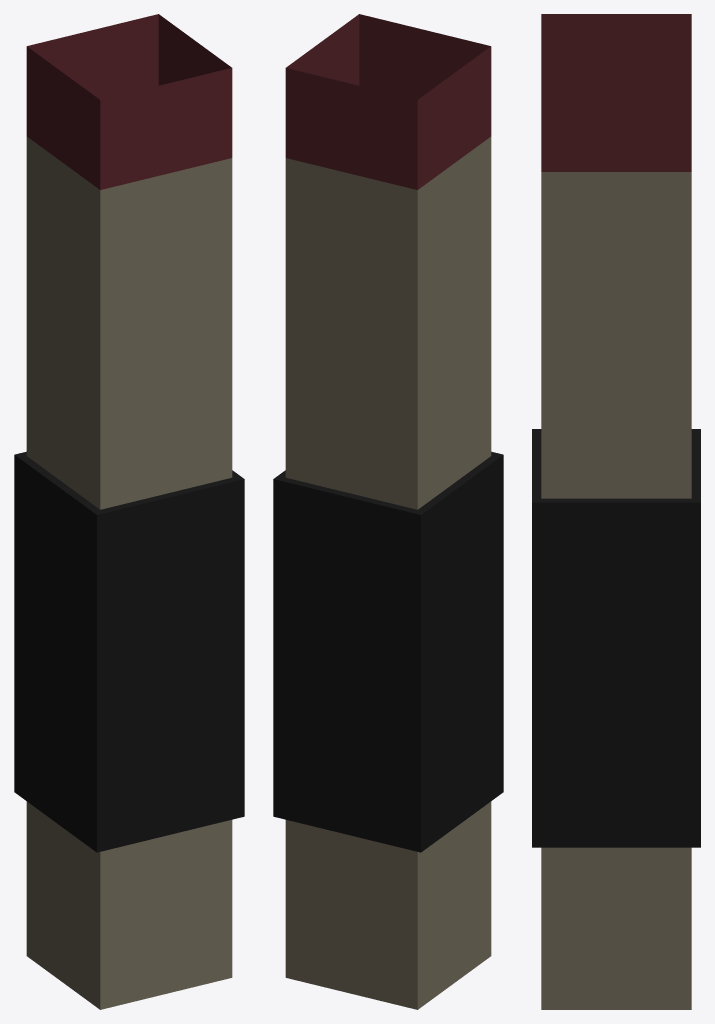
Rendered from SM_pillar_07.fbx.
The picture shows the model from 3 angles, left to right: view 1: azimuth 30°, elevation 25°; view 2: azimuth 150°, elevation 25°; view 3: azimuth 270°, elevation 25°; orthographic projection. The views are drawn at different scales.
Visible parts, largest first — view 1: pillar_07; view 2: pillar_07; view 3: pillar_07.
Part boxes in pixels (box(x1,y1,x2,y2)): pillar_07: box(14, 14, 244, 1009); pillar_07: box(273, 14, 503, 1009); pillar_07: box(532, 14, 700, 1009).
Bounding box in the file's own units: 51.76 × 305 × 50.15.
